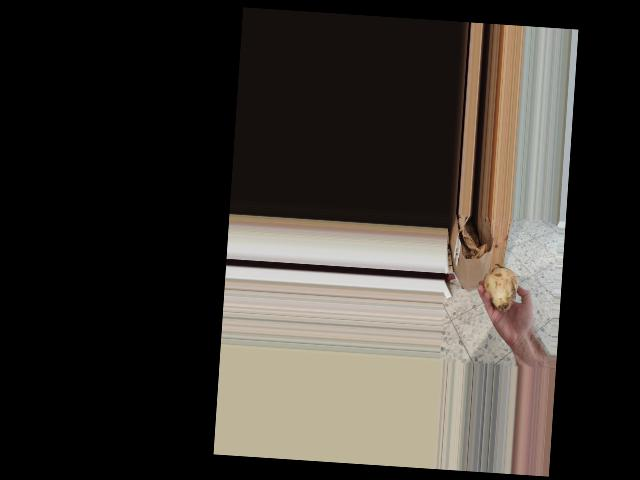onion: (479, 263, 522, 316)
